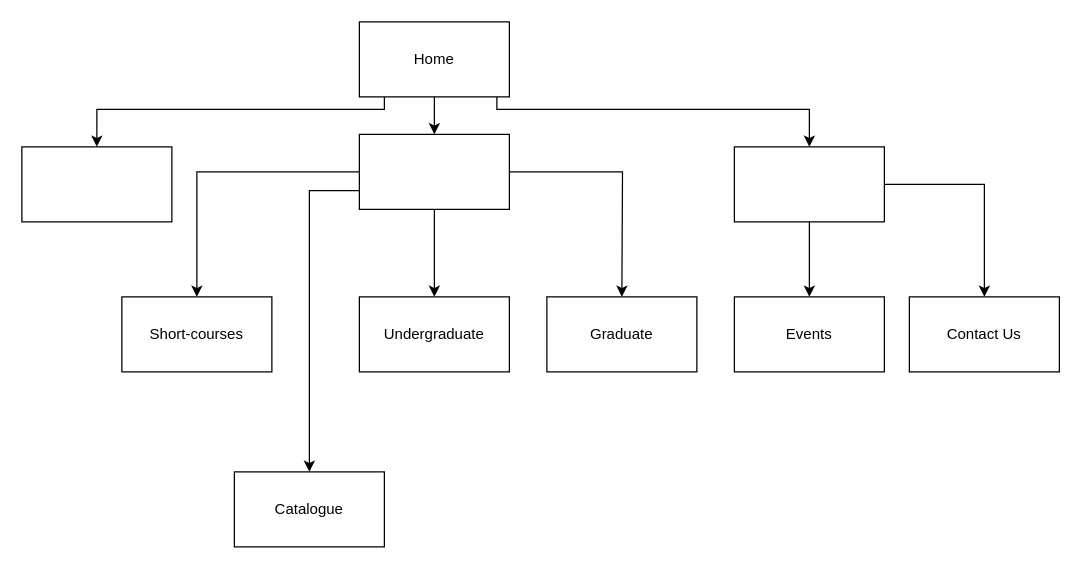
Some shapes in this 1081 by 569 pixel diagram are drawn without their labels. Each missing label, with the box of its shape:
About: (733, 146, 884, 222)
COMPSSA: (21, 146, 172, 222)
Faculty: (358, 133, 509, 209)
